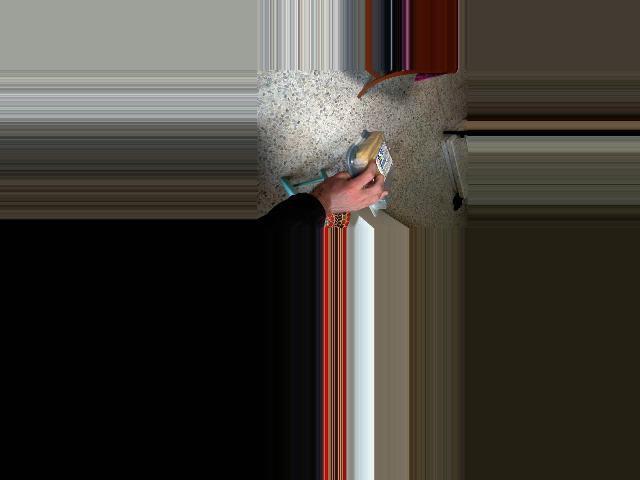cheese: (352, 128, 394, 192)
